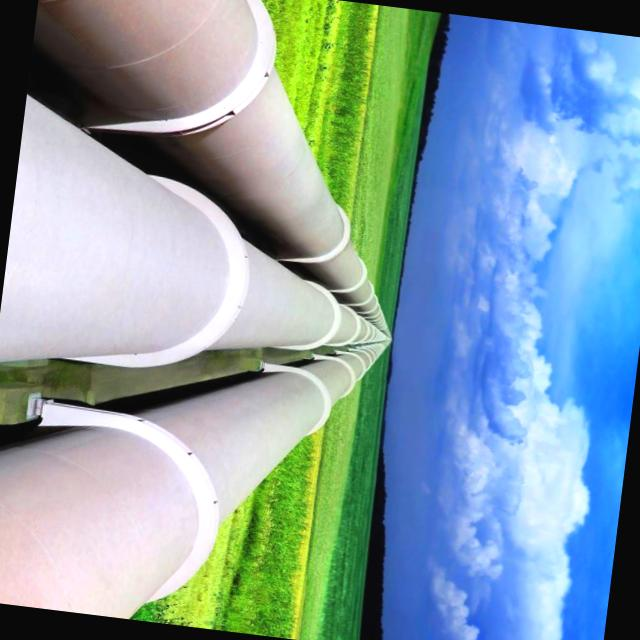gas: (28, 0, 391, 330), (0, 342, 391, 616), (0, 97, 391, 359)
